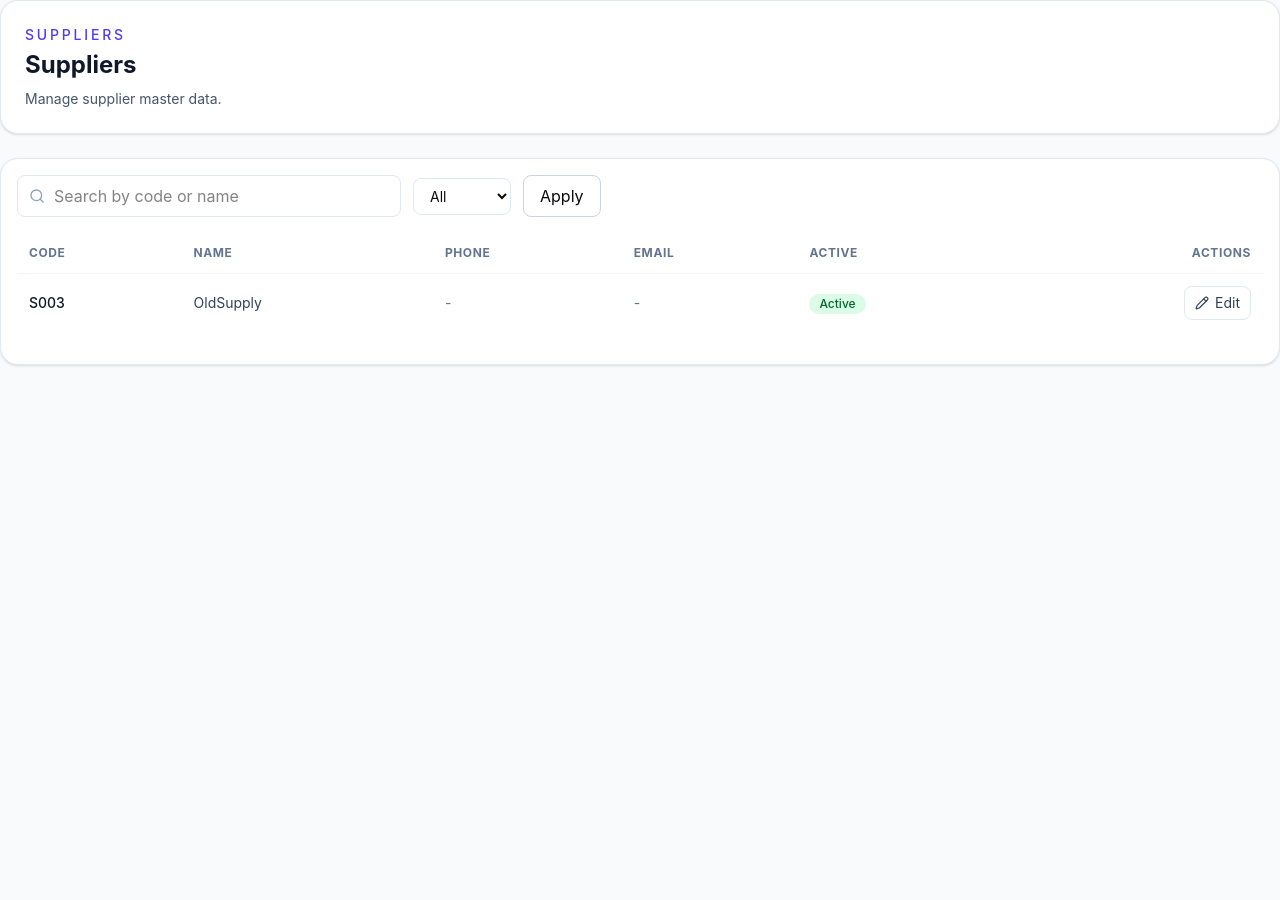
Scenario: SuppliersPage › allows updating a supplier
Expected: the text "OldSupply" is shown, top-left (182, 274), bottom-right (433, 332)
Click the button "Edit". click: (1218,303)
box: top-left (1184, 286), bottom-right (1251, 320)
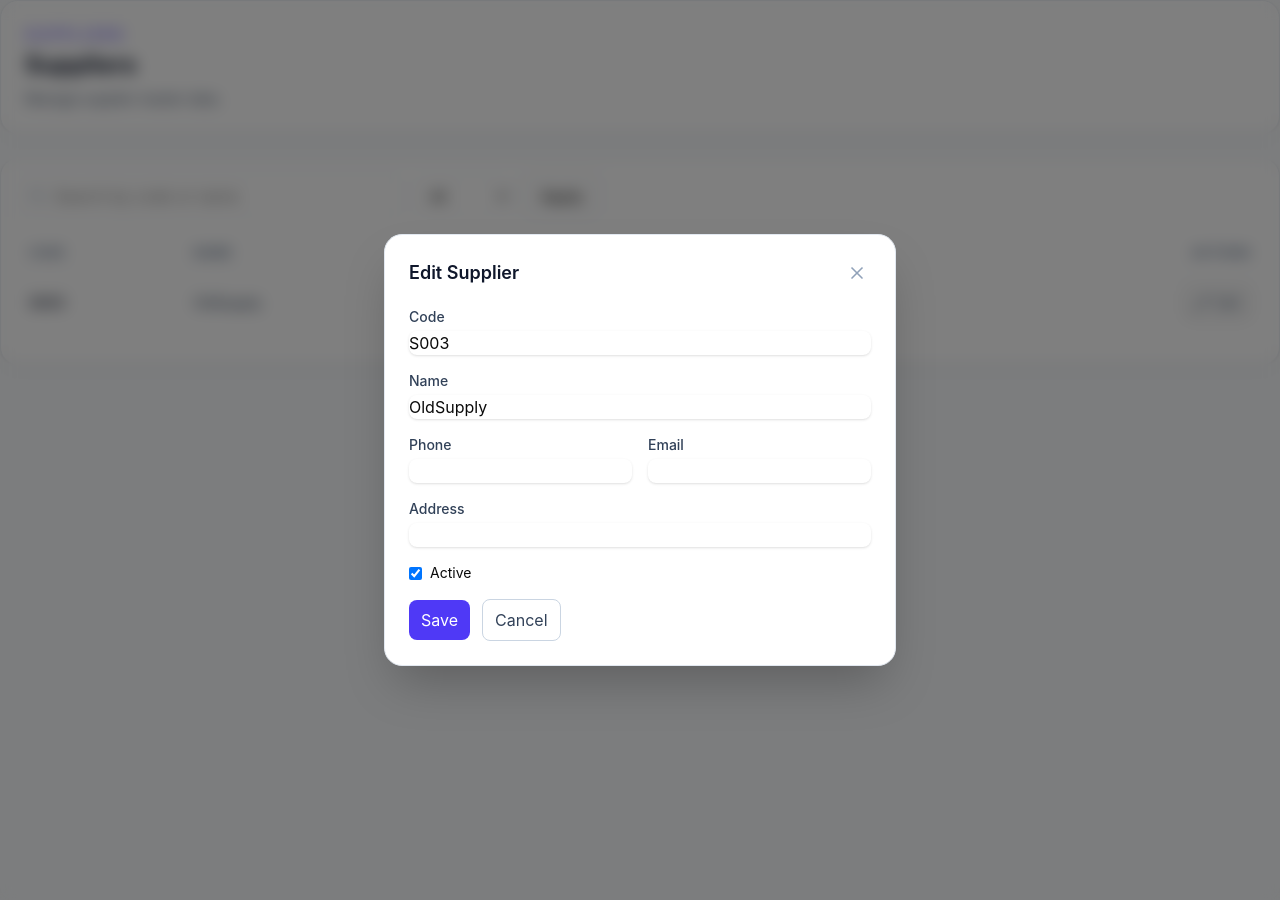
Replace the text in the field labelled "Name" with "NewSupply". click: (640,407)
box: top-left (409, 395), bottom-right (871, 419)
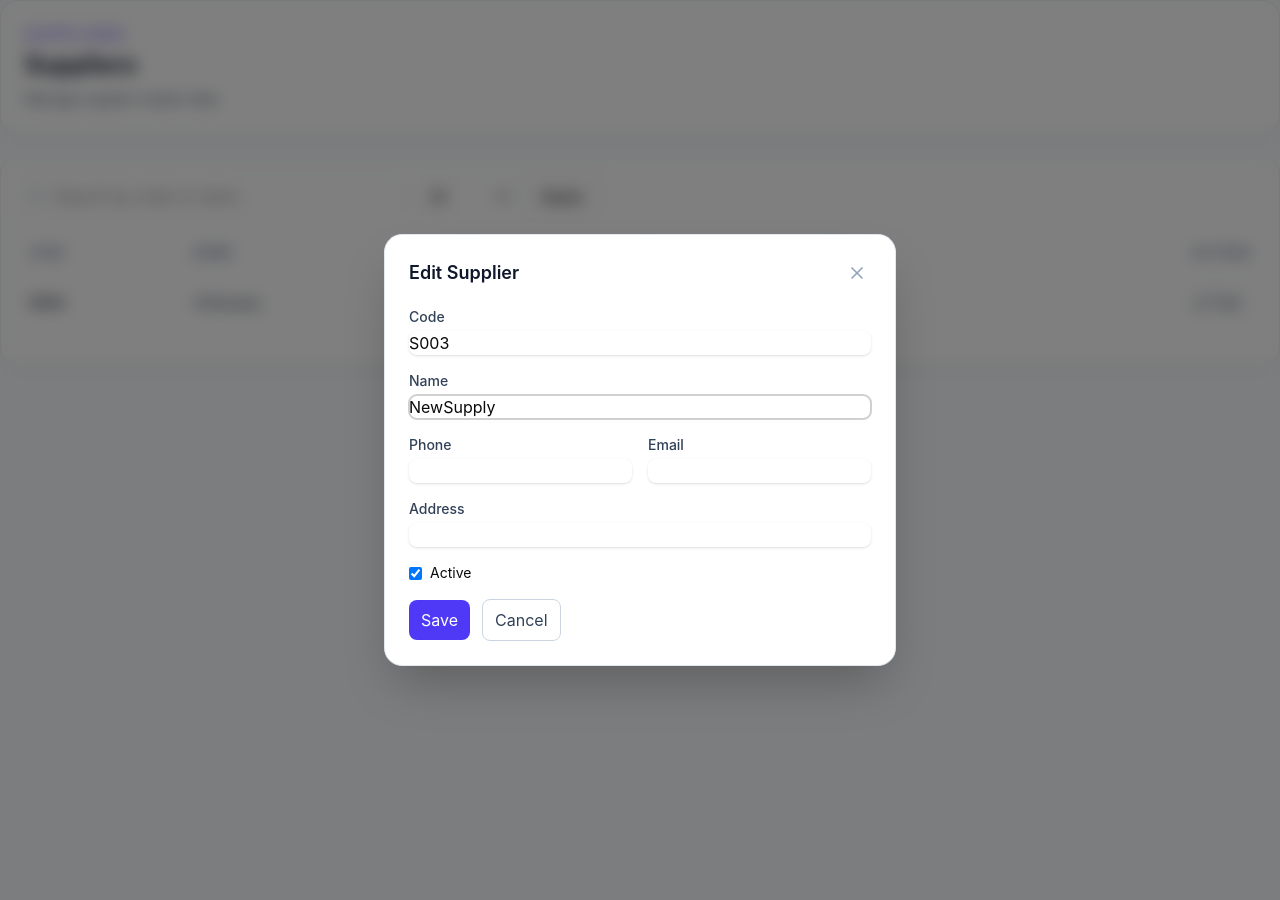
Click the button "Save". click: (440,620)
box: top-left (409, 600), bottom-right (470, 640)
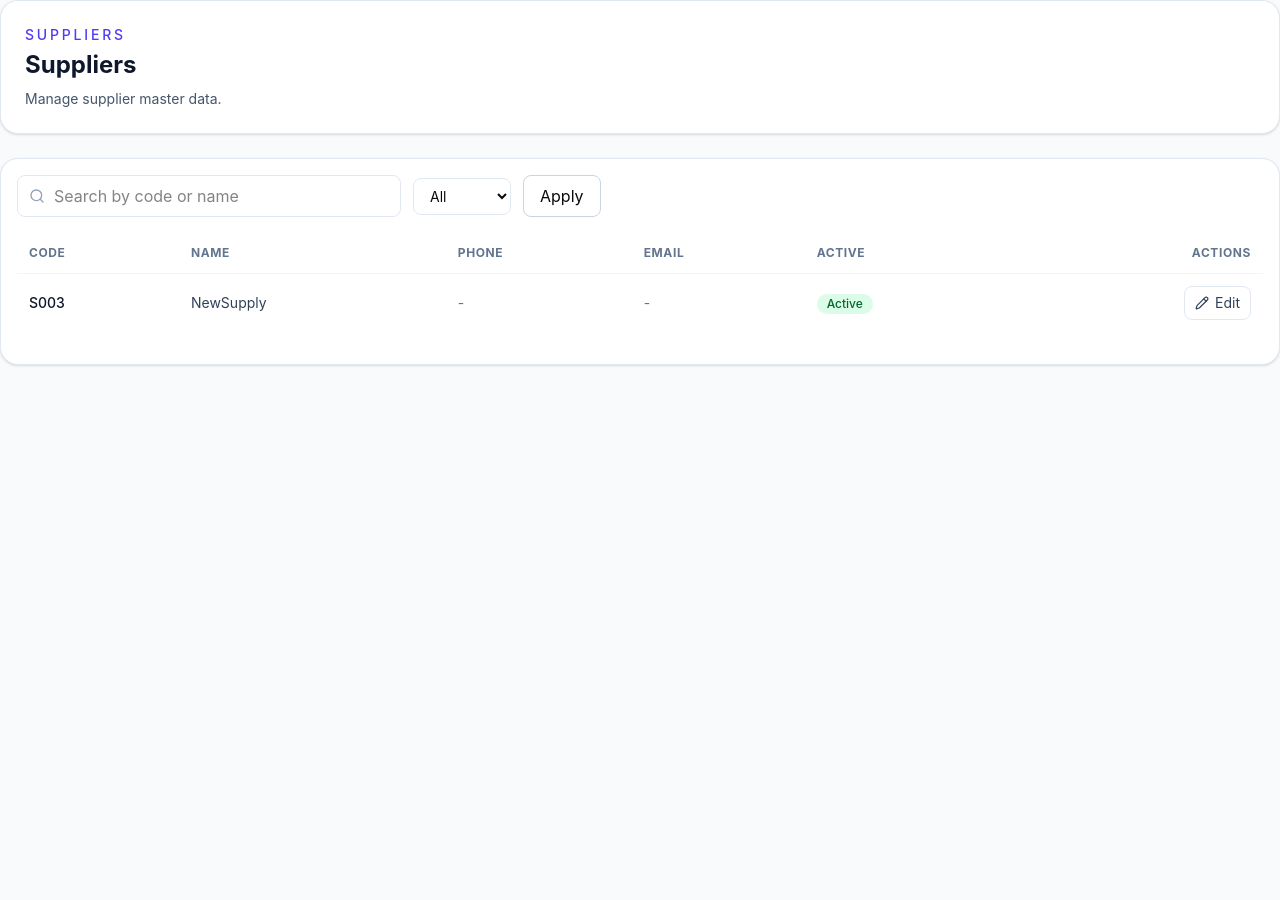
Now the text "NewSupply" is shown, box top-left (179, 274), bottom-right (446, 332)
